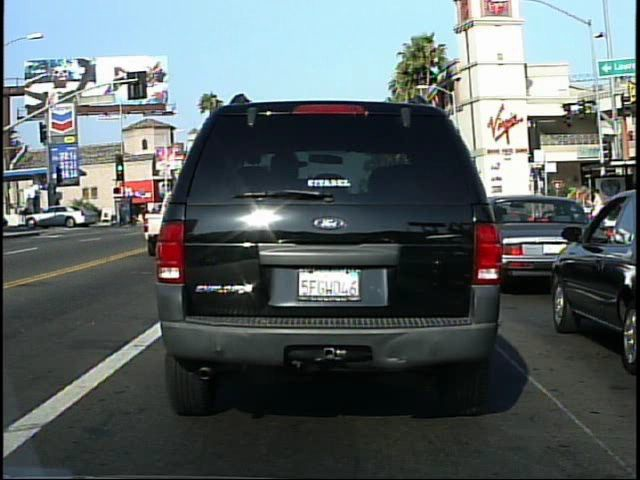person: (586, 186, 609, 240)
